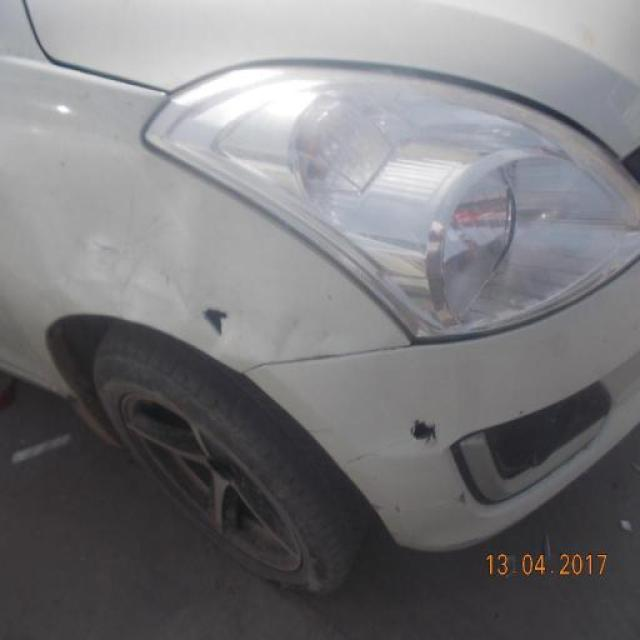scratch: (408, 414, 443, 448), (203, 304, 232, 341)
